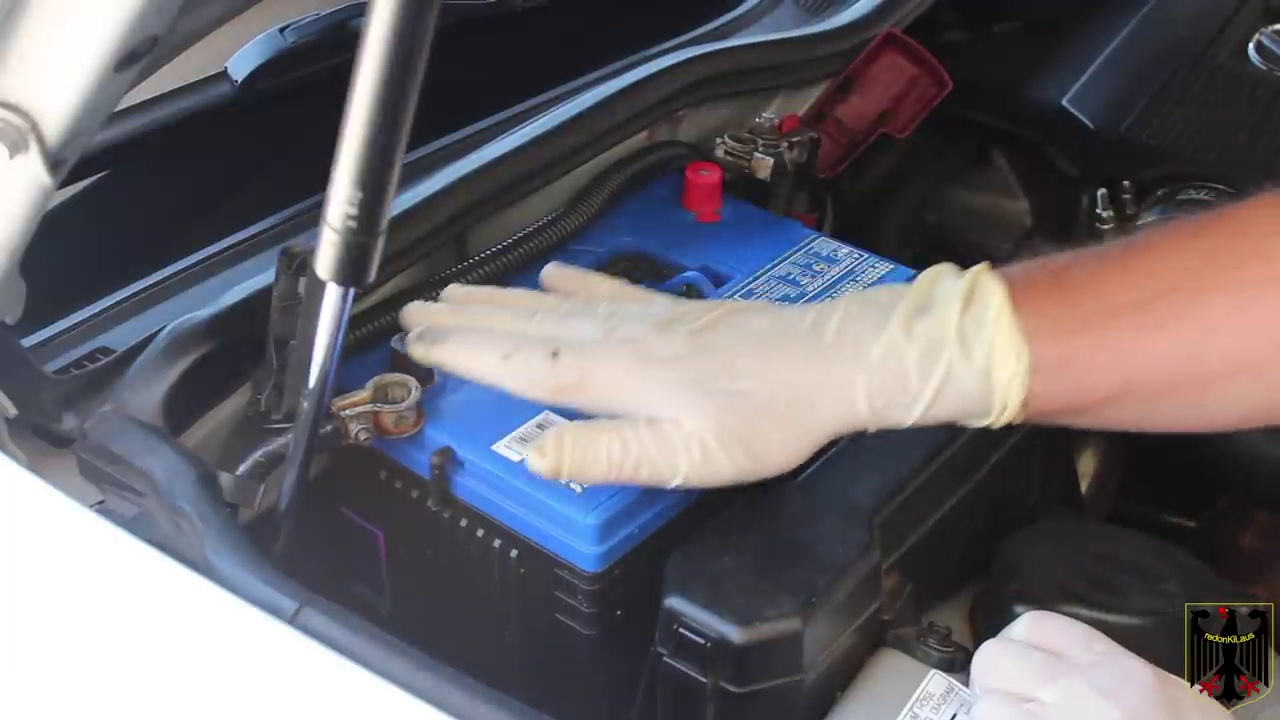battery: (309, 139, 925, 522)
pos_disconnected: (660, 45, 947, 218)
